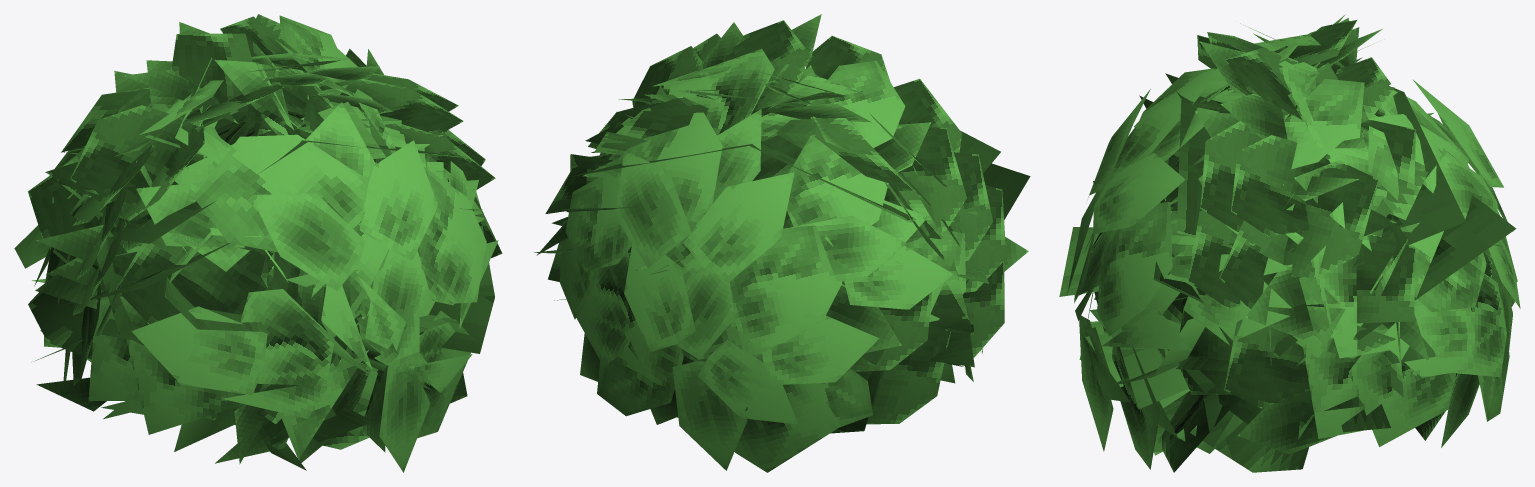
Rendered from bush-azalea-spring.glb.
3 views of the same model, side by side, from view 1: azimuth 30°, elevation 25°; view 2: azimuth 150°, elevation 25°; view 3: azimuth 270°, elevation 25° (orthographic). The views are drawn at different scales.
Visible parts, largest first — view 1: bush-azalea-spring; view 2: bush-azalea-spring; view 3: bush-azalea-spring.
Boxes of the visible parts, x1=… form: bush-azalea-spring: x1=14, y1=14, x2=502, y2=472; bush-azalea-spring: x1=534, y1=14, x2=1030, y2=472; bush-azalea-spring: x1=1059, y1=14, x2=1520, y2=472.
Size of the model in its own units: 1.1 by 0.9148 by 0.9899.
Materials: 1 (1 with a texture image).
